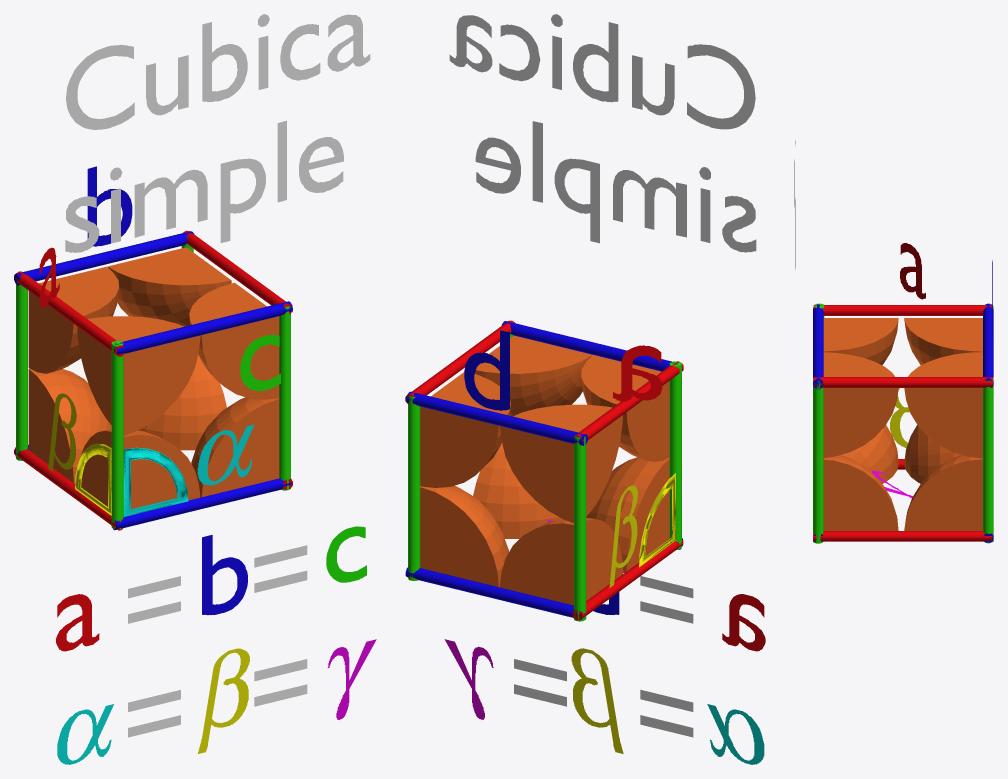
Rendered from cubica simple.glb.
The picture shows the model from 3 angles, left to right: view 1: azimuth 30°, elevation 25°; view 2: azimuth 150°, elevation 25°; view 3: azimuth 270°, elevation 25°; orthographic projection. The views are drawn at different scales.
Visible parts, largest first — view 1: Text.129_Text.034, Sphere.009_Sphere.023, Sphere.011_Sphere.025, Sphere.015_Sphere.029, Sphere.010_Sphere.024, Sphere.013_Sphere.027, Sphere.012_Sphere.026, Sphere.008_Sphere.014, Sphere.014_Sphere.028, Cylinder.023_Cylinder.033, Cylinder.014_Cylinder.024, Cylinder.020_Cylinder.030 (+23 smaller); view 2: Text.129_Text.034, Sphere.013_Sphere.027, Sphere.014_Sphere.028, Sphere.012_Sphere.026, Sphere.015_Sphere.029, Sphere.011_Sphere.025, Sphere.008_Sphere.014, Sphere.009_Sphere.023, Sphere.010_Sphere.024, Cylinder.021_Cylinder.031, Cylinder.020_Cylinder.030, Cylinder.018_Cylinder.028 (+17 smaller); view 3: Sphere.015_Sphere.029, Sphere.011_Sphere.025, Sphere.014_Sphere.028, Sphere.010_Sphere.024, Sphere.013_Sphere.027, Sphere.009_Sphere.023, Cylinder.017_Cylinder.027, Cylinder.016_Cylinder.026, Cylinder.024_Cylinder.034, Cylinder.015_Cylinder.025, Cylinder.018_Cylinder.028, Sphere.012_Sphere.026 (+5 smaller).
Part boxes in pixels (x1,y1,x2,y2): Text.129_Text.034: (65, 14, 370, 252); Sphere.009_Sphere.023: (77, 316, 200, 435); Sphere.011_Sphere.025: (189, 282, 279, 399); Sphere.015_Sphere.029: (108, 247, 231, 326); Sphere.010_Sphere.024: (191, 397, 279, 497); Sphere.013_Sphere.027: (28, 266, 118, 373); Sphere.012_Sphere.026: (28, 368, 111, 483); Sphere.008_Sphere.014: (80, 430, 200, 508); Sphere.014_Sphere.028: (139, 354, 226, 450); Cylinder.023_Cylinder.033: (111, 340, 123, 529); Cylinder.014_Cylinder.024: (114, 301, 292, 355); Cylinder.020_Cylinder.030: (14, 231, 193, 285); Text.129_Text.034: (449, 14, 756, 252); Sphere.013_Sphere.027: (500, 404, 622, 523); Sphere.014_Sphere.028: (420, 485, 508, 587); Sphere.012_Sphere.026: (499, 517, 623, 605); Sphere.015_Sphere.029: (420, 372, 510, 487); Sphere.011_Sphere.025: (474, 335, 592, 416); Sphere.008_Sphere.014: (586, 457, 669, 572); Sphere.009_Sphere.023: (581, 355, 669, 461); Sphere.010_Sphere.024: (473, 443, 561, 538); Cylinder.021_Cylinder.031: (574, 436, 586, 621); Cylinder.020_Cylinder.030: (406, 391, 587, 445); Cylinder.018_Cylinder.028: (408, 396, 420, 580); Sphere.015_Sphere.029: (904, 352, 982, 458); Sphere.011_Sphere.025: (823, 352, 898, 457); Sphere.014_Sphere.028: (904, 455, 982, 530); Sphere.010_Sphere.024: (823, 455, 898, 530); Sphere.013_Sphere.027: (904, 318, 982, 365); Sphere.009_Sphere.023: (823, 318, 898, 365); Cylinder.017_Cylinder.027: (813, 377, 992, 387); Cylinder.016_Cylinder.026: (813, 531, 992, 541); Cylinder.024_Cylinder.034: (813, 305, 992, 315); Cylinder.015_Cylinder.025: (813, 378, 823, 543); Cylinder.018_Cylinder.028: (983, 377, 993, 542); Sphere.012_Sphere.026: (904, 425, 962, 483).
Size of the model in its own units: 0.98 by 2.13 by 0.596.
